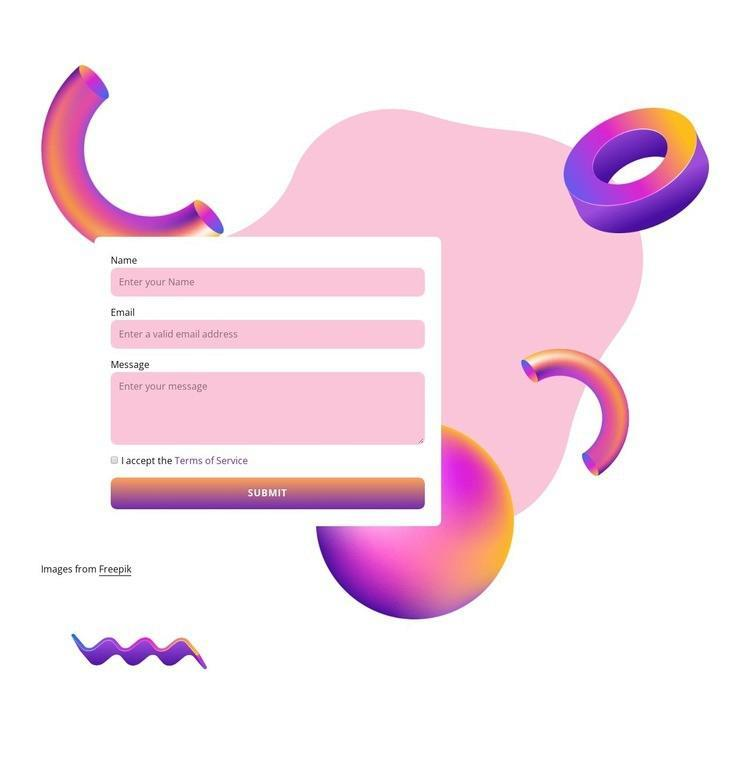button: (111, 477, 429, 512)
checkbox: (111, 456, 120, 467)
input: (110, 267, 427, 298), (111, 320, 428, 351)
label: (120, 456, 250, 469), (110, 359, 150, 372), (110, 306, 137, 319), (111, 254, 139, 266)
